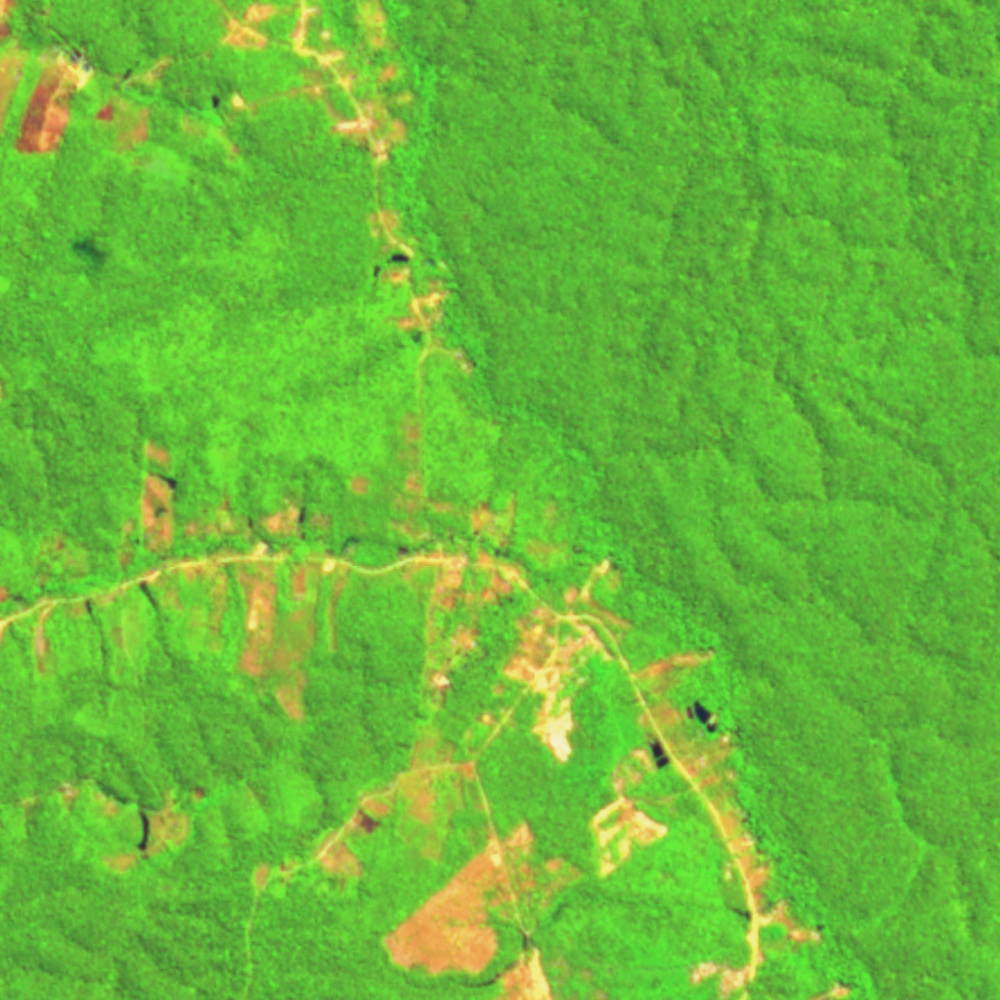legal: (626, 642, 824, 990), (247, 730, 484, 906), (1, 2, 240, 160), (409, 496, 567, 708), (221, 1, 421, 168), (378, 815, 579, 980), (499, 555, 630, 767), (204, 559, 348, 724), (15, 779, 210, 875), (365, 205, 475, 374), (181, 468, 378, 555), (584, 744, 675, 877), (396, 409, 452, 548), (1, 530, 88, 608), (138, 434, 180, 553), (112, 517, 144, 579), (28, 616, 55, 677)
